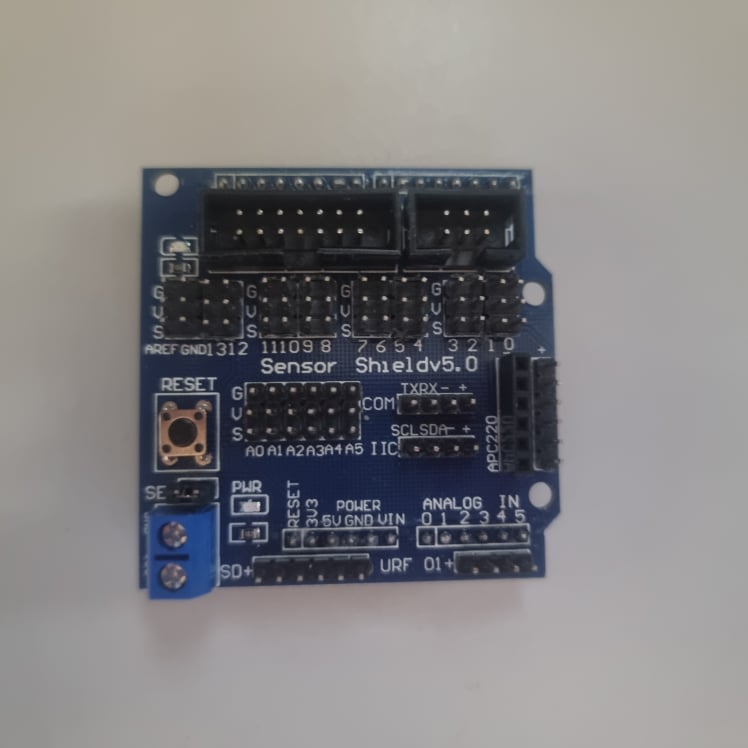5V EXPANSION: (138, 166, 565, 601)
